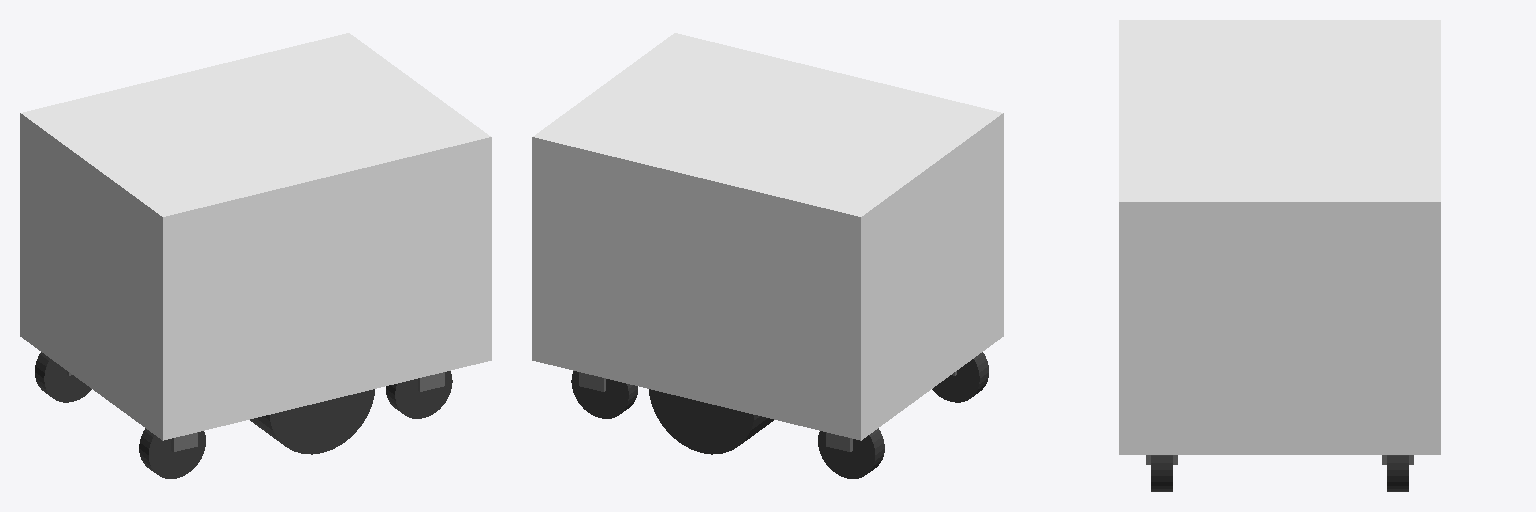
robot.urdf — storagy:
<?xml version="1.0" ?>
<robot name="storagy" xmlns:xacro="http://ros.org/wiki/xacro">
  <!-- <xacro:include filename="$(find storagy)/urdf/common_properties.urdf"/> -->

  <!-- Init colour -->
  <material name="black">
      <color rgba="0.0 0.0 0.0 1.0"/>
  </material>

  <material name="dark">
    <color rgba="0.3 0.3 0.3 1.0"/>
  </material>

  <material name="light_black">
    <color rgba="0.4 0.4 0.4 1.0"/>
  </material>

  <material name="blue">
    <color rgba="0.0 0.0 0.8 1.0"/>
  </material>

  <material name="green">
    <color rgba="0.0 0.8 0.0 1.0"/>
  </material>

  <material name="grey">
    <color rgba="0.5 0.5 0.5 1.0"/>
  </material>

  <material name="orange">
    <color rgba="1.0 0.4235 0.0392 1.0"/>
  </material>

  <material name="brown">
    <color rgba="0.8706 0.8118 0.7647 1.0"/>
  </material>

  <material name="red">
    <color rgba="0.8 0.0 0.0 1.0"/>
  </material>
  <material name="white">
    <color rgba="1.0 1.0 1.0 1.0"/>
  </material>

  <link name="base_footprint"/>

  <joint name="base_joint" type="fixed">
    <parent link="base_footprint"/>
    <child link="base_link"/>
    <origin xyz="0 0 0.065" rpy="0 0 0"/>
  </joint>

  <link name="base_link">
    <visual>
      <origin xyz="0.0 0 0.13" rpy="0 0 0"/>
      <geometry>
        <!-- <mesh filename="package://storagy/meshes/bases/Main.stl" scale="0.01 0.01 0.01"/> -->
        <box size="0.4 0.3 0.26"/>
      </geometry>
      <material name="white"/>
    </visual>

    <collision>
      <origin xyz="-0.064 0 0.047" rpy="0 0 0"/>
      <geometry>
        <box size="0.22 0.20 0.094"/>
      </geometry>
    </collision>

    <inertial>
      <origin xyz="0 0 0" rpy="0 0 0"/>
      <mass value="1.3729096e+00"/>
      <inertia ixx="8.7002718e-03" ixy="-4.7576583e-05" ixz="1.1160499e-04"
               iyy="8.6195418e-03" iyz="-3.5422299e-06"
               izz="1.4612727e-02" />
    </inertial>
  </link>

  <joint name="wheel_front_left_joint" type="continuous">
    <parent link="base_link"/>
    <child link="wheel_front_left_link"/>
    <origin xyz="0.0 0.1 0.0" rpy="0 0 0"/>
    <axis xyz="0 1 0"/>
  </joint>

  <link name="wheel_front_left_link">
    <visual>
      <origin xyz="0 0 0" rpy="-1.57 0 0.0"/>
      <geometry>
        <!-- <mesh filename="package://storagy/meshes/wheels/Front_left_wheel.stl" scale="0.01 0.01 0.01"/> -->
        <cylinder length="0.08" radius="0.065"/>
      </geometry>
      <material name="dark"/>
    </visual>

    <collision>
      <origin xyz="0 0 0" rpy="-1.57 0 0"/>
      <geometry>
        <cylinder length="0.08" radius="0.065"/>
      </geometry>
    </collision>

    <inertial>
      <origin xyz="0 0 0" />
      <mass value="2.8498940e-02" />
      <inertia ixx="1.1175580e-05" ixy="-4.2369783e-11" ixz="-5.9381719e-09"
               iyy="1.1192413e-05" iyz="-1.4400107e-11"
               izz="2.0712558e-05" />
      </inertial>
  </link>

  <joint name="wheel_front_right_joint" type="continuous">
    <parent link="base_link"/>
    <child link="wheel_front_right_link"/>
    <origin xyz="0.0 -0.1 0.0" rpy="0 0 0"/>
    <axis xyz="0 1 0"/>
  </joint>

  <link name="wheel_front_right_link">
    <visual>
      <origin xyz="0 0 0" rpy="-1.57 0 0"/>
      <geometry>
        <!-- <mesh filename="package://storagy/meshes/wheels/Front_right_wheel.stl" scale="0.01 0.01 0.01"/> -->
        <cylinder length="0.08" radius="0.065"/>
      </geometry>
      <material name="dark"/>
    </visual>

    <collision>
      <origin xyz="0 0 0" rpy="-1.57 0 0"/>
      <geometry>
        <cylinder length="0.08" radius="0.065"/>
      </geometry>
    </collision>

    <inertial>
      <origin xyz="0 0 0" />
      <mass value="2.8498940e-02" />
      <inertia ixx="1.1175580e-05" ixy="-4.2369783e-11" ixz="-5.9381719e-09"
               iyy="1.1192413e-05" iyz="-1.4400107e-11"
               izz="2.0712558e-05" />
      </inertial>
  </link>

  <joint name="imu_joint" type="fixed">
    <parent link="base_link"/>
    <child link="imu_link"/>
    <origin xyz="0.0 0 0.068" rpy="0 0 0"/>
  </joint>

  <link name="imu_link"/>

  <joint name="front_scan_joint" type="fixed">
    <parent link="base_link"/>
    <child link="front_base_scan"/>
    <origin xyz="0.1525 0.0 0.062" rpy="3.142857143 0 0"/>
  </joint>

  <link name="front_base_scan">
    <visual>
      <origin xyz="0 0 0.0" rpy="0 0 0"/>
      <geometry>
        <mesh filename="package://storagy/meshes/sensors/lidar.stl" scale="0.01 0.01 0.01"/>
      </geometry>
      <material name="dark"/>
    </visual>

    <collision>
      <origin xyz="0.015 0 -0.0065" rpy="0 0 0"/>
      <geometry>
        <cylinder length="0.0315" radius="0.055"/>
      </geometry>
    </collision>

    <inertial>
      <mass value="0.114" />
      <origin xyz="0 0 0" />
      <inertia ixx="0.001" ixy="0.0" ixz="0.0"
               iyy="0.001" iyz="0.0"
               izz="0.001" />
    </inertial>
  </link>

  <joint name="camera_joint" type="fixed">
    <origin xyz="0.198 0.0 0.2295" rpy="0 0 0"/>
    <parent link="base_link"/>
    <child link="camera_link"/>
  </joint>

  <link name="camera_link">
    <visual>
      <origin xyz="0.0 0.0 0.0" rpy="0 0 0"/>
      <geometry>
        <mesh filename="package://storagy/meshes/sensors/camera.stl" scale="0.01 0.01 0.01"/>
      </geometry>
      <material name="light_black"/>
    </visual>
    <collision>
      <origin xyz="0.0 0.0 0.0" rpy="0 0 0"/>
      <geometry>
        <mesh filename="package://storagy/meshes/sensors/camera.stl" scale="0.01 0.01 0.01"/>
      </geometry>
    </collision>
    <inertial>
      <mass value="0.05" />
      <origin xyz="0 0 0" />
      <inertia ixx="0.0001" ixy="0.0" ixz="0.0"
               iyy="0.0001" iyz="0.0"
               izz="0.0001" />
    </inertial>
  </link>

  <joint name="camera_rgb_joint" type="fixed">
    <!-- <origin xyz="0.003 0.011 0.009" rpy="3.14 0 0"/> -->
    <origin xyz="0 0 0" rpy="0 0 0"/>
    <parent link="camera_link"/>
    <child link="camera_rgb_frame"/>
  </joint>
  <link name="camera_rgb_frame"/>

  <joint name="camera_rgb_optical_joint" type="fixed">
    <origin xyz="0 0 0" rpy="-1.57 0 -1.57"/>
    <parent link="camera_rgb_frame"/>
    <child link="camera_color_optical_frame"/>
  </joint>
  <link name="camera_color_optical_frame"/>

  <gazebo>
    <plugin filename="gz-sim-diff-drive-system" name="gz::sim::systems::DiffDrive">
      <left_joint>wheel_front_left_joint</left_joint>
      <right_joint>wheel_front_right_joint</right_joint>
      <wheel_separation>0.2</wheel_separation>
      <wheel_diameter>0.13</wheel_diameter>
      <max_wheel_torque>20</max_wheel_torque>
      <max_wheel_acceleration>1.0</max_wheel_acceleration>
      <topic>cmd_vel</topic>
      <odom_topic>model/storagy/dummy_odometry</odom_topic>
      <tf_topic>model/storagy/dummy_tf</tf_topic>
      <frame_id>odom</frame_id>
      <child_frame_id>base_footprint</child_frame_id>
      <publish_odom>false</publish_odom>
      <publish_odom_tf>false</publish_odom_tf>
    </plugin>
    <plugin filename="gz-sim-odometry-publisher-system" name="gz::sim::systems::OdometryPublisher">
      <odom_topic>model/storagy/odometry</odom_topic>
      <tf_topic>model/storagy/tf</tf_topic>
      <odom_frame>odom</odom_frame>
      <robot_base_frame>base_footprint</robot_base_frame>
    </plugin>
    <plugin filename="gz-sim-joint-state-publisher-system" name="gz::sim::systems::JointStatePublisher">
      <topic>joint_states</topic>
    </plugin>
  </gazebo>

  <gazebo reference="front_base_scan">
    <sensor type="gpu_lidar" name="front_lidar">
      <pose>0 0 0 0 0 0</pose>
      <visualize>true</visualize>
      <update_rate>15</update_rate>
      <topic>scan</topic>
      <gz_frame_id>front_base_scan</gz_frame_id>
      <ray>
        <scan>
          <horizontal>
            <samples>360</samples>
            <resolution>1</resolution>
            <min_angle>-3.141592</min_angle>
            <max_angle>3.141592</max_angle>
          </horizontal>
        </scan>
        <range>
          <min>0.12</min>
          <max>10.0</max>
          <resolution>0.01</resolution>
        </range>
      </ray>
    </sensor>
  </gazebo>

  <gazebo reference="camera_link">
    <sensor type="rgbd_camera" name="camera">
      <pose>0 0 0 0 0 0</pose>
      <visualize>true</visualize>
      <update_rate>15</update_rate>
      <camera>
        <horizontal_fov>1.089</horizontal_fov>
        <image>
          <width>640</width>
          <height>480</height>
          <format>R8G8B8</format>
        </image>
        <clip>
          <near>0.05</near>
          <far>8.0</far>
        </clip>
      </camera>
      <topic>camera</topic>
    </sensor>
  </gazebo>

  <!-- NOTE: Sensors system plugin is already loaded by the world (room1.sdf).
       Do NOT add it again here, otherwise two Sensors systems try to create
       the rendering scene "scene" and the server segfaults. -->
  <!-- Caster Front Left -->
  <joint name="caster_front_left_swivel_joint" type="continuous">
    <parent link="base_link"/>
    <child link="caster_front_left_swivel_link"/>
    <origin xyz="0.15 0.11 -0.01" rpy="0 0 0"/>
    <axis xyz="0 0 1"/>
    <dynamics damping="0.01" friction="0.0"/>
  </joint>

  <link name="caster_front_left_swivel_link">
    <visual>
      <origin xyz="-0.0075 0 -0.01" rpy="0 0 0"/>
      <geometry>
        <box size="0.03 0.03 0.02"/>
      </geometry>
      <material name="grey"/>
    </visual>
    <inertial>
      <mass value="0.05"/>
      <origin xyz="-0.0075 0 -0.01" rpy="0 0 0"/>
      <inertia ixx="0.00001" ixy="0" ixz="0" iyy="0.00001" iyz="0" izz="0.00001"/>
    </inertial>
  </link>

  <joint name="caster_front_left_wheel_joint" type="continuous">
    <parent link="caster_front_left_swivel_link"/>
    <child link="caster_front_left_wheel_link"/>
    <origin xyz="-0.015 0.0 -0.019" rpy="0 0 0"/>
    <axis xyz="0 1 0"/>
    <dynamics damping="0.01" friction="0.0"/>
  </joint>

  <link name="caster_front_left_wheel_link">
    <visual>
      <origin xyz="0 0 0" rpy="1.570796327 0 0"/>
      <geometry>
        <cylinder length="0.02" radius="0.035"/>
      </geometry>
      <material name="dark"/>
    </visual>
    <collision>
      <origin xyz="0 0 0" rpy="1.570796327 0 0"/>
      <geometry>
        <cylinder length="0.02" radius="0.030"/>
      </geometry>
    </collision>
    <inertial>
      <mass value="0.1"/>
      <origin xyz="0 0 0" rpy="0 0 0"/>
      <inertia ixx="0.00003" ixy="0" ixz="0" iyy="0.00003" iyz="0" izz="0.00005"/>
    </inertial>
  </link>

  <!-- Caster Front Right -->
  <joint name="caster_front_right_swivel_joint" type="continuous">
    <parent link="base_link"/>
    <child link="caster_front_right_swivel_link"/>
    <origin xyz="0.15 -0.11 -0.01" rpy="0 0 0"/>
    <axis xyz="0 0 1"/>
    <dynamics damping="0.01" friction="0.0"/>
  </joint>

  <link name="caster_front_right_swivel_link">
    <visual>
      <origin xyz="-0.0075 0 -0.01" rpy="0 0 0"/>
      <geometry>
        <box size="0.03 0.03 0.02"/>
      </geometry>
      <material name="grey"/>
    </visual>
    <inertial>
      <mass value="0.05"/>
      <origin xyz="-0.0075 0 -0.01" rpy="0 0 0"/>
      <inertia ixx="0.00001" ixy="0" ixz="0" iyy="0.00001" iyz="0" izz="0.00001"/>
    </inertial>
  </link>

  <joint name="caster_front_right_wheel_joint" type="continuous">
    <parent link="caster_front_right_swivel_link"/>
    <child link="caster_front_right_wheel_link"/>
    <origin xyz="-0.015 0.0 -0.019" rpy="0 0 0"/>
    <axis xyz="0 1 0"/>
    <dynamics damping="0.01" friction="0.0"/>
  </joint>

  <link name="caster_front_right_wheel_link">
    <visual>
      <origin xyz="0 0 0" rpy="1.570796327 0 0"/>
      <geometry>
        <cylinder length="0.02" radius="0.035"/>
      </geometry>
      <material name="dark"/>
    </visual>
    <collision>
      <origin xyz="0 0 0" rpy="1.570796327 0 0"/>
      <geometry>
        <cylinder length="0.02" radius="0.030"/>
      </geometry>
    </collision>
    <inertial>
      <mass value="0.1"/>
      <origin xyz="0 0 0" rpy="0 0 0"/>
      <inertia ixx="0.00003" ixy="0" ixz="0" iyy="0.00003" iyz="0" izz="0.00005"/>
    </inertial>
  </link>

  <!-- Caster Back Left -->
  <joint name="caster_back_left_swivel_joint" type="continuous">
    <parent link="base_link"/>
    <child link="caster_back_left_swivel_link"/>
    <origin xyz="-0.15 0.11 -0.01" rpy="0 0 0"/>
    <axis xyz="0 0 1"/>
    <dynamics damping="0.01" friction="0.0"/>
  </joint>

  <link name="caster_back_left_swivel_link">
    <visual>
      <origin xyz="-0.0075 0 -0.01" rpy="0 0 0"/>
      <geometry>
        <box size="0.03 0.03 0.02"/>
      </geometry>
      <material name="grey"/>
    </visual>
    <inertial>
      <mass value="0.05"/>
      <origin xyz="-0.0075 0 -0.01" rpy="0 0 0"/>
      <inertia ixx="0.00001" ixy="0" ixz="0" iyy="0.00001" iyz="0" izz="0.00001"/>
    </inertial>
  </link>

  <joint name="caster_back_left_wheel_joint" type="continuous">
    <parent link="caster_back_left_swivel_link"/>
    <child link="caster_back_left_wheel_link"/>
    <origin xyz="-0.015 0.0 -0.019" rpy="0 0 0"/>
    <axis xyz="0 1 0"/>
    <dynamics damping="0.01" friction="0.0"/>
  </joint>

  <link name="caster_back_left_wheel_link">
    <visual>
      <origin xyz="0 0 0" rpy="1.570796327 0 0"/>
      <geometry>
        <cylinder length="0.02" radius="0.035"/>
      </geometry>
      <material name="dark"/>
    </visual>
    <collision>
      <origin xyz="0 0 0" rpy="1.570796327 0 0"/>
      <geometry>
        <cylinder length="0.02" radius="0.030"/>
      </geometry>
    </collision>
    <inertial>
      <mass value="0.1"/>
      <origin xyz="0 0 0" rpy="0 0 0"/>
      <inertia ixx="0.00003" ixy="0" ixz="0" iyy="0.00003" iyz="0" izz="0.00005"/>
    </inertial>
  </link>

  <!-- Caster Back Right -->
  <joint name="caster_back_right_swivel_joint" type="continuous">
    <parent link="base_link"/>
    <child link="caster_back_right_swivel_link"/>
    <origin xyz="-0.15 -0.11 -0.01" rpy="0 0 0"/>
    <axis xyz="0 0 1"/>
    <dynamics damping="0.01" friction="0.0"/>
  </joint>

  <link name="caster_back_right_swivel_link">
    <visual>
      <origin xyz="-0.0075 0 -0.01" rpy="0 0 0"/>
      <geometry>
        <box size="0.03 0.03 0.02"/>
      </geometry>
      <material name="grey"/>
    </visual>
    <inertial>
      <mass value="0.05"/>
      <origin xyz="-0.0075 0 -0.01" rpy="0 0 0"/>
      <inertia ixx="0.00001" ixy="0" ixz="0" iyy="0.00001" iyz="0" izz="0.00001"/>
    </inertial>
  </link>

  <joint name="caster_back_right_wheel_joint" type="continuous">
    <parent link="caster_back_right_swivel_link"/>
    <child link="caster_back_right_wheel_link"/>
    <origin xyz="-0.015 0.0 -0.019" rpy="0 0 0"/>
    <axis xyz="0 1 0"/>
    <dynamics damping="0.01" friction="0.0"/>
  </joint>

  <link name="caster_back_right_wheel_link">
    <visual>
      <origin xyz="0 0 0" rpy="1.570796327 0 0"/>
      <geometry>
        <cylinder length="0.02" radius="0.035"/>
      </geometry>
      <material name="dark"/>
    </visual>
    <collision>
      <origin xyz="0 0 0" rpy="1.570796327 0 0"/>
      <geometry>
        <cylinder length="0.02" radius="0.030"/>
      </geometry>
    </collision>
    <inertial>
      <mass value="0.1"/>
      <origin xyz="0 0 0" rpy="0 0 0"/>
      <inertia ixx="0.00003" ixy="0" ixz="0" iyy="0.00003" iyz="0" izz="0.00005"/>
    </inertial>
  </link>

  <!-- Gazebo contact and friction parameters -->
  <gazebo reference="caster_front_left_wheel_link">
    <mu1 value="0.0"/>
    <mu2 value="0.0"/>
    <kp value="1000000.0"/>
    <kd value="100.0"/>
    <minDepth value="0.001"/>
  </gazebo>
  <gazebo reference="caster_front_right_wheel_link">
    <mu1 value="0.0"/>
    <mu2 value="0.0"/>
    <kp value="1000000.0"/>
    <kd value="100.0"/>
    <minDepth value="0.001"/>
  </gazebo>
  <gazebo reference="caster_back_left_wheel_link">
    <mu1 value="0.0"/>
    <mu2 value="0.0"/>
    <kp value="1000000.0"/>
    <kd value="100.0"/>
    <minDepth value="0.001"/>
  </gazebo>
  <gazebo reference="caster_back_right_wheel_link">
    <mu1 value="0.0"/>
    <mu2 value="0.0"/>
    <kp value="1000000.0"/>
    <kd value="100.0"/>
    <minDepth value="0.001"/>
  </gazebo>

  <gazebo reference="wheel_front_left_link">
    <mu1 value="1.5"/>
    <mu2 value="1.5"/>
    <kp value="1000000.0"/>
    <kd value="100.0"/>
    <minDepth value="0.001"/>
  </gazebo>
  <gazebo reference="wheel_front_right_link">
    <mu1 value="1.5"/>
    <mu2 value="1.5"/>
    <kp value="1000000.0"/>
    <kd value="100.0"/>
    <minDepth value="0.001"/>
  </gazebo>

</robot>

--- Facts derived from the render (not from the file) ---
The picture shows the robot from 3 angles, left to right: view 1: azimuth 30°, elevation 25°; view 2: azimuth 150°, elevation 25°; view 3: azimuth 270°, elevation 25°; orthographic projection.
Robot: storagy — 17 links, 16 joints (10 continuous, 6 fixed); root link base_footprint; default pose: every joint at zero.
Links seen in each view (by area): view 1: base_link, wheel_front_right_link, caster_back_right_wheel_link, caster_front_right_wheel_link, caster_back_left_wheel_link; view 2: base_link, wheel_front_left_link, caster_back_left_wheel_link, caster_front_left_wheel_link, caster_back_right_wheel_link; view 3: base_link, caster_front_left_wheel_link, caster_front_right_wheel_link.
Boxes of the visible links, x1,y1,x2,y2 form: base_link: (20, 33, 491, 440); wheel_front_right_link: (250, 389, 374, 454); caster_back_right_wheel_link: (139, 428, 205, 478); caster_front_right_wheel_link: (386, 371, 452, 418); caster_back_left_wheel_link: (35, 352, 91, 402); base_link: (532, 33, 1003, 440); wheel_front_left_link: (649, 389, 773, 454); caster_back_left_wheel_link: (818, 428, 884, 478); caster_front_left_wheel_link: (571, 371, 637, 418); caster_back_right_wheel_link: (932, 352, 988, 402); base_link: (1119, 20, 1440, 454); caster_front_left_wheel_link: (1387, 455, 1408, 491); caster_front_right_wheel_link: (1151, 455, 1172, 491).
Bounding box of the posed robot: 0.4 × 0.3 × 0.325 m (x, y, z).
Meshes: 2 distinct files referenced, 0 mesh visuals loaded (none loaded); not drawn: 2 (reference not matched to a file when rendering).
